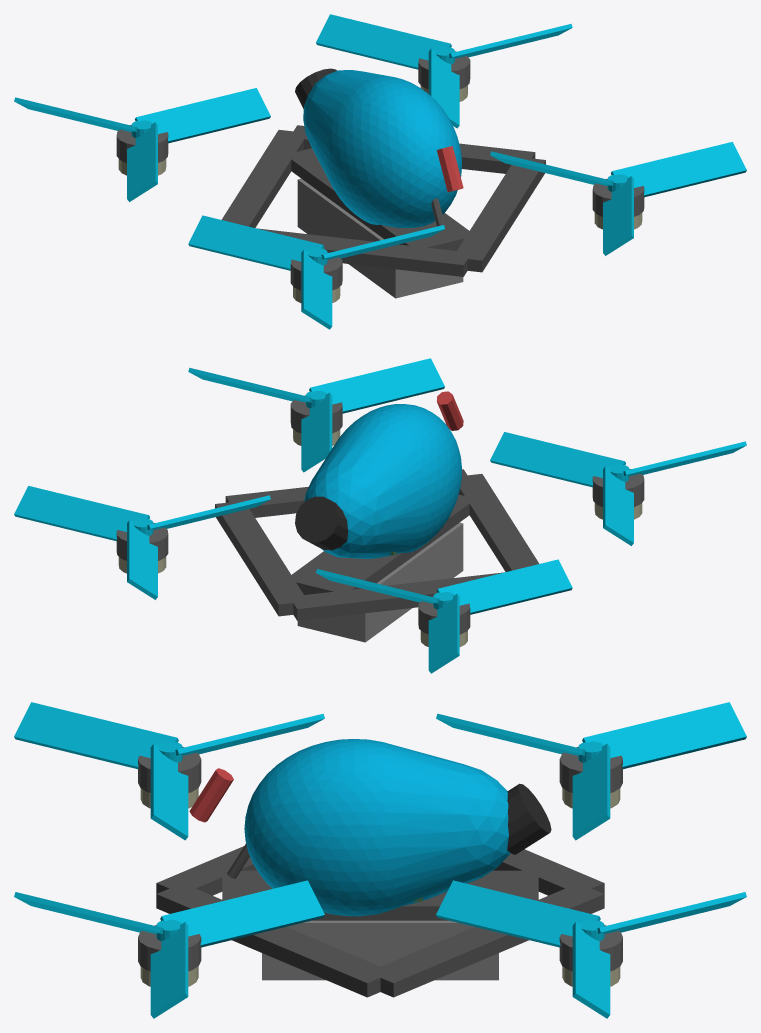
The picture shows the model from 3 angles, top to bottom: view 1: azimuth 30°, elevation 25°; view 2: azimuth 150°, elevation 25°; view 3: azimuth 270°, elevation 25°; orthographic projection. The views are drawn at different scales.
Parts seen in each view (by area): view 1: mat_plastic_canopy, mat_carbon_frame, prop_mat_plastic_1, prop_mat_plastic_2, prop_mat_plastic_0, prop_mat_plastic_3, mat_batt_body, mat_metal_bell_1, mat_metal_bell_3, mat_plastic_antennatip, mat_metal_bell_0, mat_metal_bell_2 (+1 smaller); view 2: mat_plastic_canopy, mat_carbon_frame, prop_mat_plastic_2, prop_mat_plastic_0, prop_mat_plastic_1, prop_mat_plastic_3, mat_batt_body, mat_plastic_lensbarrel, mat_metal_bell_2, mat_metal_bell_0, mat_metal_bell_3, mat_metal_bell_1 (+1 smaller); view 3: mat_plastic_canopy, mat_carbon_frame, prop_mat_plastic_0, prop_mat_plastic_3, prop_mat_plastic_1, prop_mat_plastic_2, mat_batt_body, mat_plastic_lensbarrel, mat_plastic_antennatip, mat_metal_bell_0, mat_metal_bell_1, mat_metal_bell_2 (+1 smaller).
Boxes of the visible parts, bbox=[...] form: mat_plastic_canopy: bbox=[303, 70, 461, 227]; mat_carbon_frame: bbox=[221, 125, 545, 276]; prop_mat_plastic_1: bbox=[188, 215, 444, 329]; prop_mat_plastic_2: bbox=[14, 88, 270, 201]; prop_mat_plastic_0: bbox=[490, 142, 746, 255]; prop_mat_plastic_3: bbox=[316, 14, 572, 128]; mat_batt_body: bbox=[297, 178, 463, 298]; mat_metal_bell_1: bbox=[290, 252, 342, 290]; mat_metal_bell_3: bbox=[418, 51, 470, 89]; mat_plastic_antennatip: bbox=[437, 146, 463, 192]; mat_metal_bell_0: bbox=[592, 178, 644, 216]; mat_metal_bell_2: bbox=[116, 125, 168, 162]; mat_plastic_canopy: bbox=[304, 404, 461, 558]; mat_carbon_frame: bbox=[215, 469, 539, 620]; prop_mat_plastic_2: bbox=[316, 559, 572, 673]; prop_mat_plastic_0: bbox=[188, 358, 444, 472]; prop_mat_plastic_1: bbox=[490, 432, 746, 545]; prop_mat_plastic_3: bbox=[14, 486, 270, 599]; mat_batt_body: bbox=[297, 522, 463, 642]; mat_plastic_lensbarrel: bbox=[295, 496, 348, 550]; mat_metal_bell_2: bbox=[418, 596, 470, 634]; mat_metal_bell_0: bbox=[290, 395, 342, 433]; mat_metal_bell_3: bbox=[116, 522, 168, 560]; mat_metal_bell_1: bbox=[592, 469, 644, 506]; mat_plastic_canopy: bbox=[244, 739, 509, 916]; mat_carbon_frame: bbox=[156, 846, 604, 997]; prop_mat_plastic_0: bbox=[14, 880, 324, 1018]; prop_mat_plastic_3: bbox=[436, 880, 746, 1018]; prop_mat_plastic_1: bbox=[14, 702, 324, 840]; prop_mat_plastic_2: bbox=[436, 702, 746, 840]; mat_batt_body: bbox=[262, 920, 498, 980]; mat_plastic_lensbarrel: bbox=[507, 783, 551, 854]; mat_plastic_antennatip: bbox=[189, 768, 233, 822]; mat_metal_bell_0: bbox=[138, 925, 201, 971]; mat_metal_bell_1: bbox=[138, 747, 201, 792]; mat_metal_bell_2: bbox=[559, 747, 622, 792].
Size of the model in its own units: 0.1311 by 0.0451 by 0.139.
